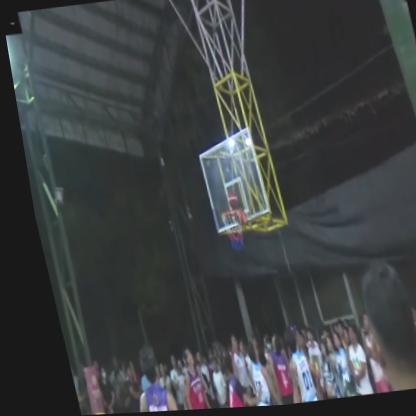basketball: (217, 186, 236, 214)
rim: (209, 209, 243, 258)
